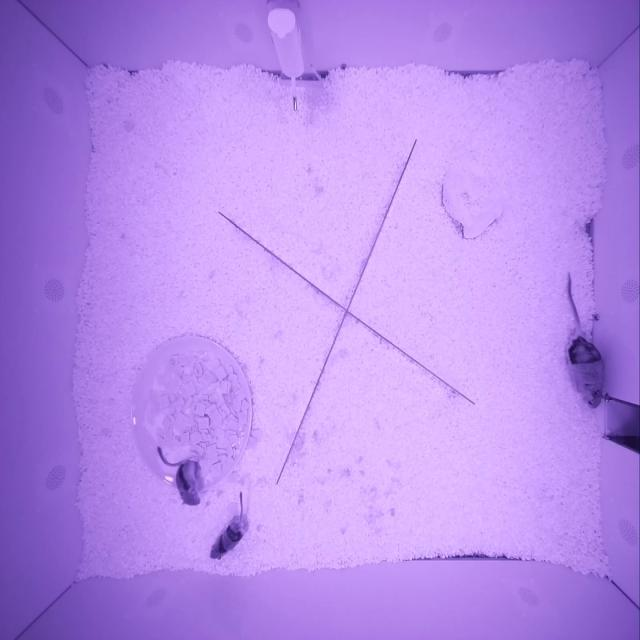adult_back: (567, 334, 604, 409)
pup_h_stripe: (209, 514, 249, 560)
pup_v_stripe: (176, 460, 202, 506)
